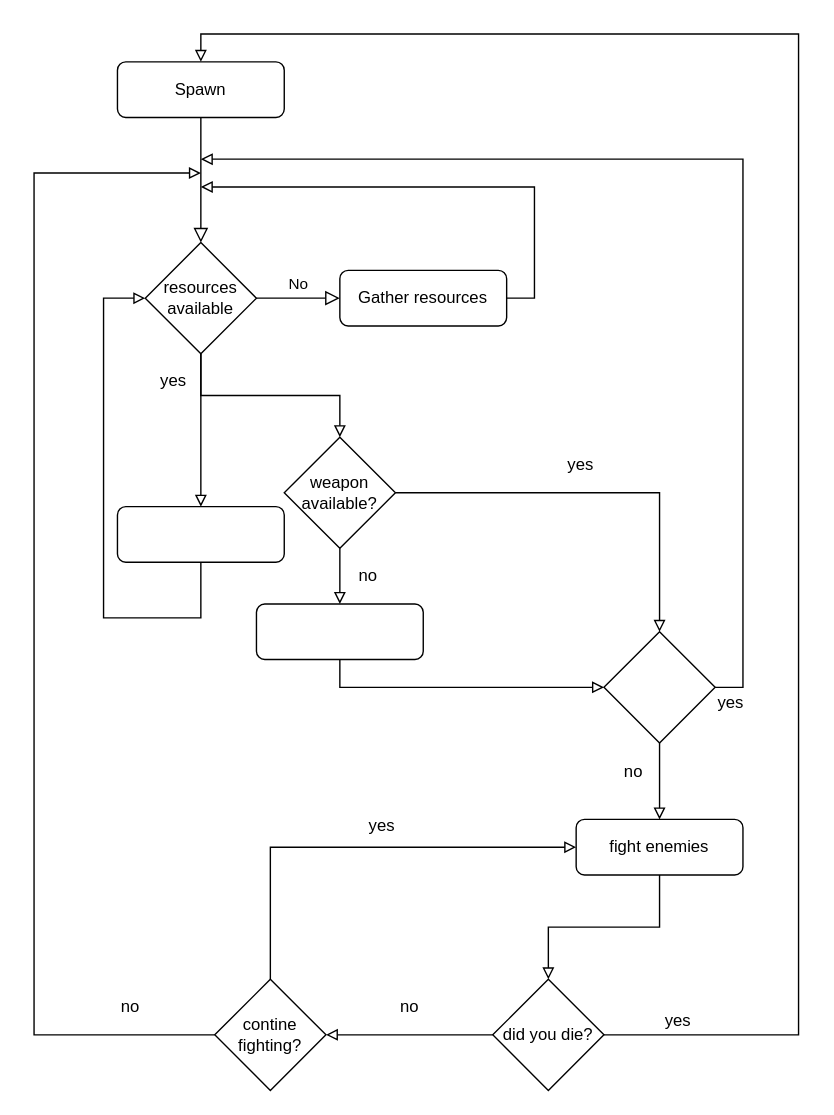
The diagram is 834 pixels wide and 1115 high, and some of its shapes have lost their labels. The box of each missing label's shape, as (x1, y1, x2, y2) in pixels:
build blocks: (116, 505, 284, 562)
craft weapon: (255, 603, 423, 660)
more weapons?: (603, 630, 715, 743)
